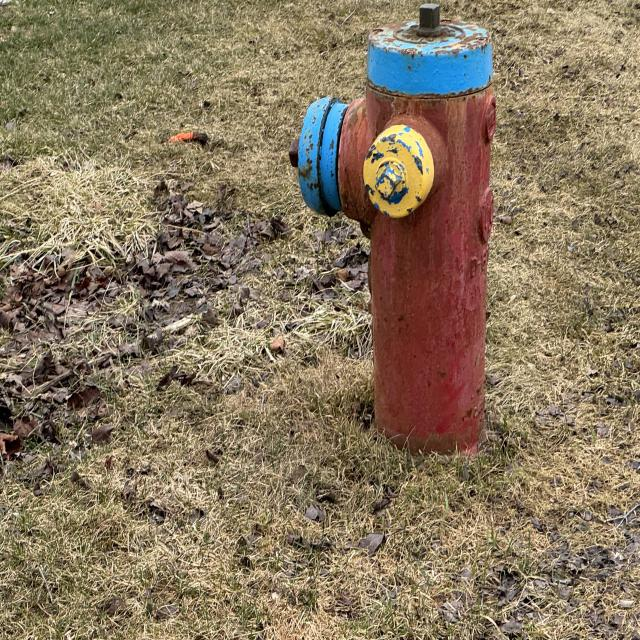Fire hydrant: (288, 1, 499, 467)
